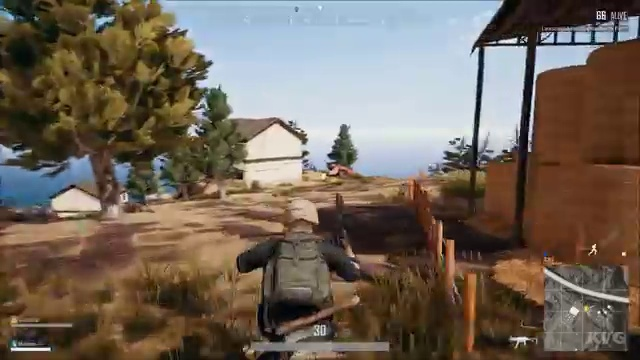Player: (235, 189, 364, 329)
